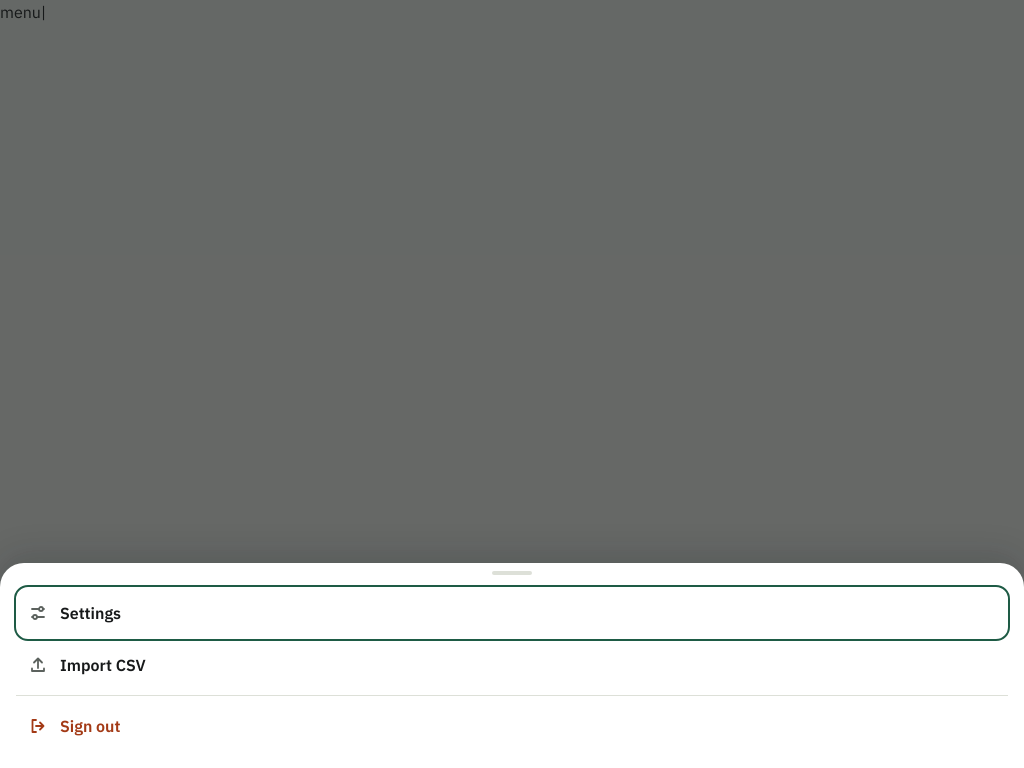
Test case: AccountMenu › opens Import CSV in place of the menu
Click the button "Import CSV": (103, 665) top-left (16, 639), bottom-right (1008, 691)
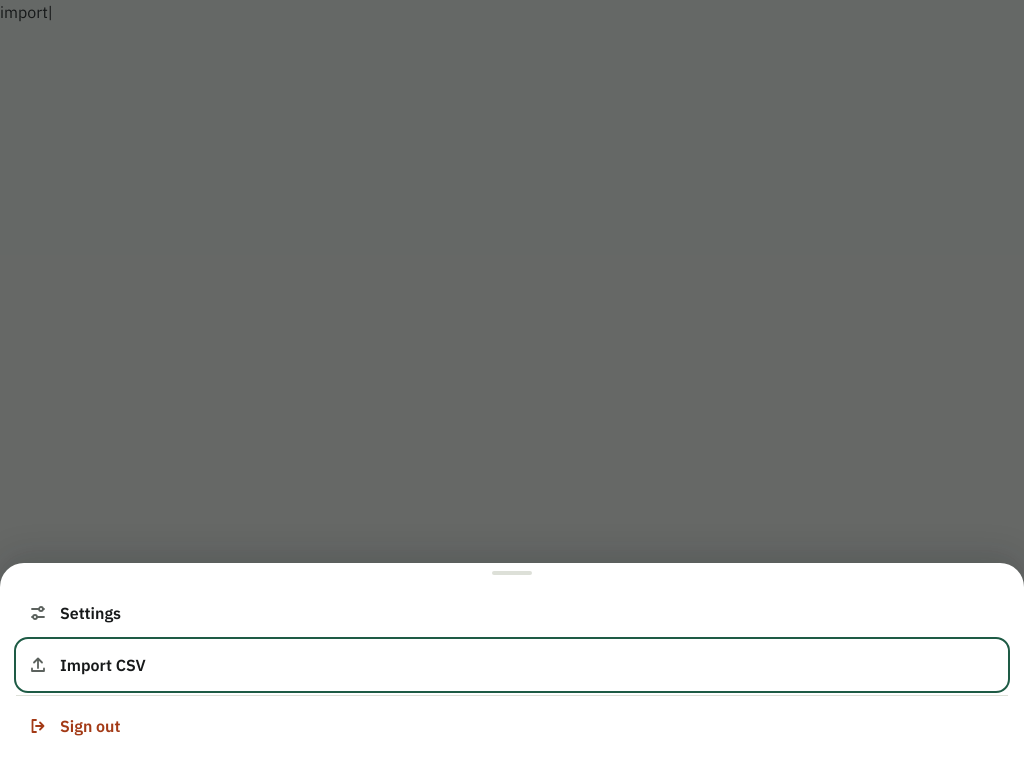
Now the text with test id "state" shows "import", box top-left (0, 2), bottom-right (48, 22)
